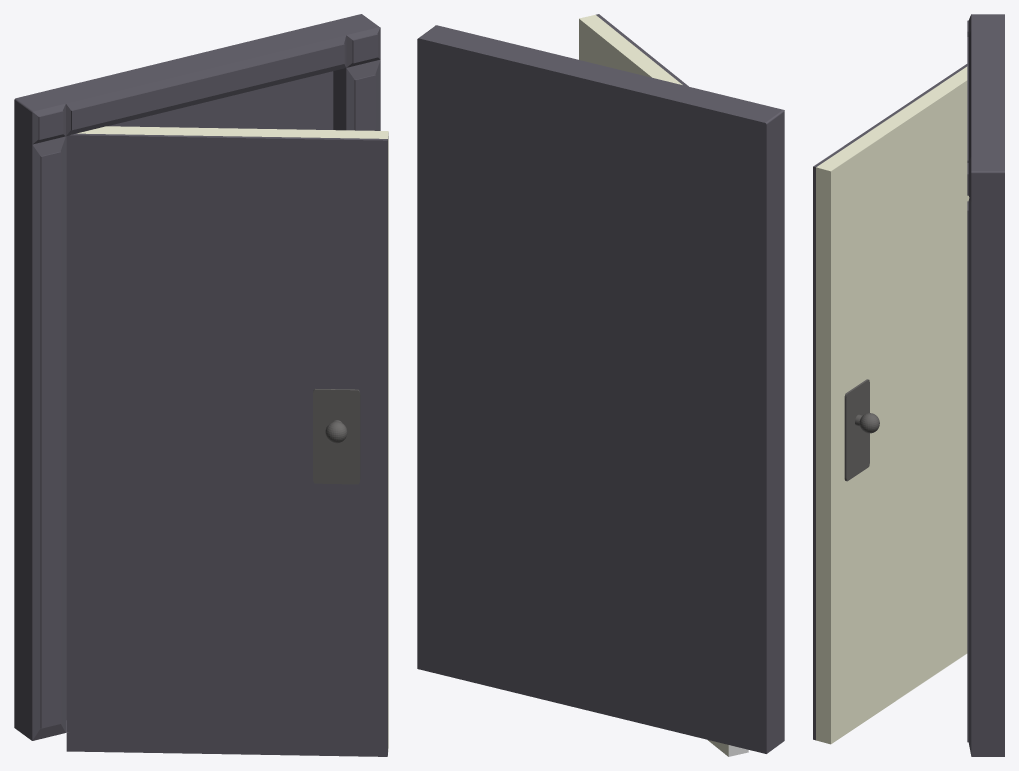
Rendered from Door.fbx.
3 renders of one model, left to right at view 1: azimuth 30°, elevation 25°; view 2: azimuth 150°, elevation 25°; view 3: azimuth 270°, elevation 25°, orthographic. The views are drawn at different scales.
Parts seen in each view (by area): view 1: Door, DoorFrame; view 2: DoorFrame, Door; view 3: Door, DoorFrame.
Part boxes in pixels (<box>): Door: <box>66,126,388,756</box>; DoorFrame: <box>14,14,380,740</box>; DoorFrame: <box>417,25,784,753</box>; Door: <box>579,14,748,756</box>; Door: <box>813,64,969,744</box>; DoorFrame: <box>967,14,1004,756</box>.
Bounding box in the file's own units: 690 × 1228 × 354.
